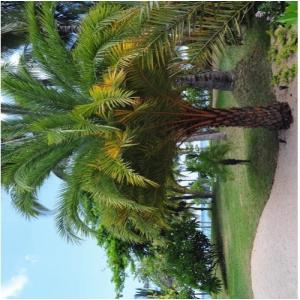palm tree: (1, 1, 293, 298)
